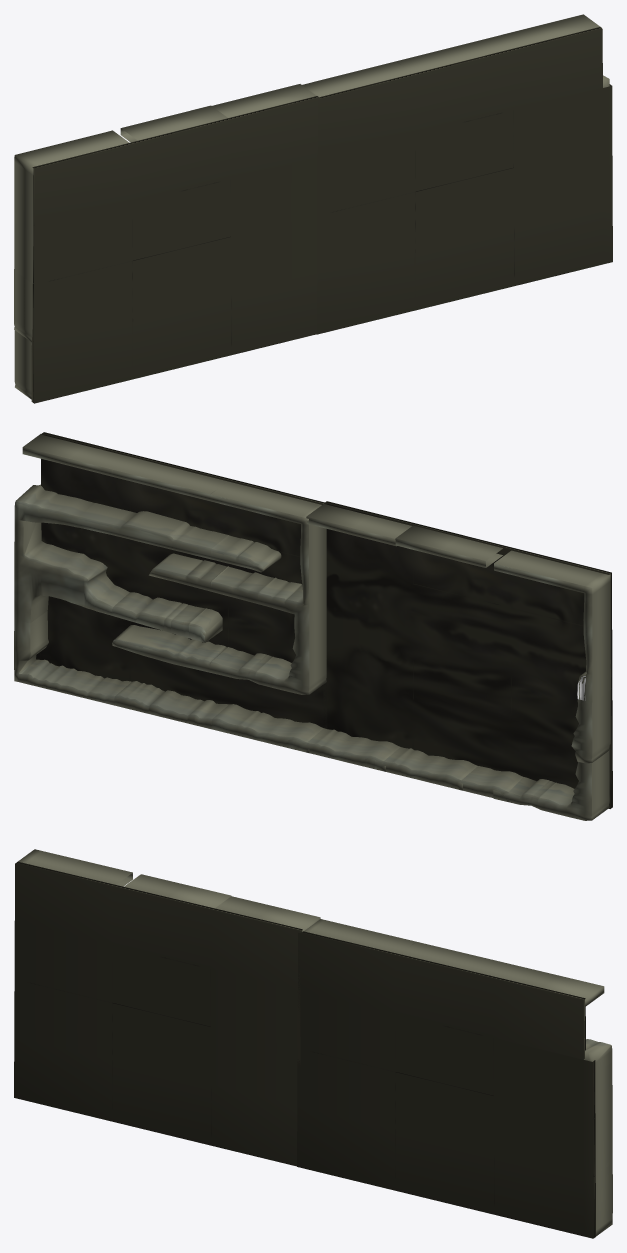
File: cave level map - Copy.fbx
3 renders of one model, top to bottom at view 1: azimuth 30°, elevation 25°; view 2: azimuth 150°, elevation 25°; view 3: azimuth 330°, elevation 25°, orthographic.
Visible parts, largest first — view 1: S1P10, S1P10.001, part4.020, part4.025, part4.008, part4.007, part4.005, part4.019, part4.021, part4.024, part4.022; view 2: S1P10.001, S1P10, part4.010, part4.014, part4.002, part4.015, part4.022, part4.020, part4.007, part4.012, part4.004, part4.009 (+14 smaller); view 3: S1P10, S1P10.001, part4.010, part4.020, part4.005, part4.008, part4.007, part4.025, part4.019, part4.015, part4.004.
Boxes of the visible parts, x1,y1,x2,y2 form: S1P10: (317, 27, 612, 334); S1P10.001: (31, 96, 319, 403); part4.020: (14, 130, 129, 225); part4.025: (120, 105, 227, 142); part4.008: (396, 37, 509, 73); part4.007: (302, 61, 412, 97); part4.005: (493, 14, 601, 49); part4.019: (212, 84, 316, 117); part4.021: (14, 212, 33, 283); part4.024: (14, 269, 32, 342); part4.022: (14, 327, 31, 399); S1P10.001: (323, 501, 612, 808); S1P10: (36, 432, 327, 728); part4.010: (14, 519, 129, 623); part4.014: (210, 622, 326, 694); part4.002: (211, 563, 326, 634); part4.015: (14, 611, 131, 705); part4.022: (493, 747, 609, 820); part4.020: (494, 550, 610, 645); part4.007: (210, 481, 326, 575); part4.012: (112, 592, 222, 642); part4.004: (14, 484, 129, 535); part4.009: (113, 511, 227, 559); S1P10: (297, 931, 595, 1238); S1P10.001: (14, 861, 302, 1166); part4.010: (595, 1062, 612, 1174); part4.020: (18, 849, 132, 886); part4.005: (497, 965, 604, 1006); part4.008: (400, 941, 513, 976); part4.007: (304, 919, 415, 953); part4.025: (124, 874, 231, 908); part4.019: (215, 896, 320, 931); part4.015: (595, 1163, 612, 1236); part4.004: (584, 1039, 612, 1073).
Size of the model in its own units: 2578 by 1009 by 158.
